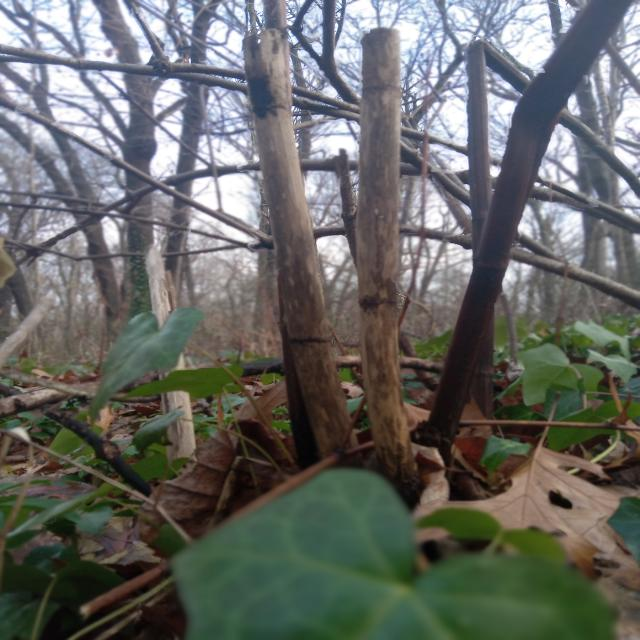knotweed-stems: (413, 1, 632, 465), (240, 1, 354, 468), (351, 26, 420, 502)
